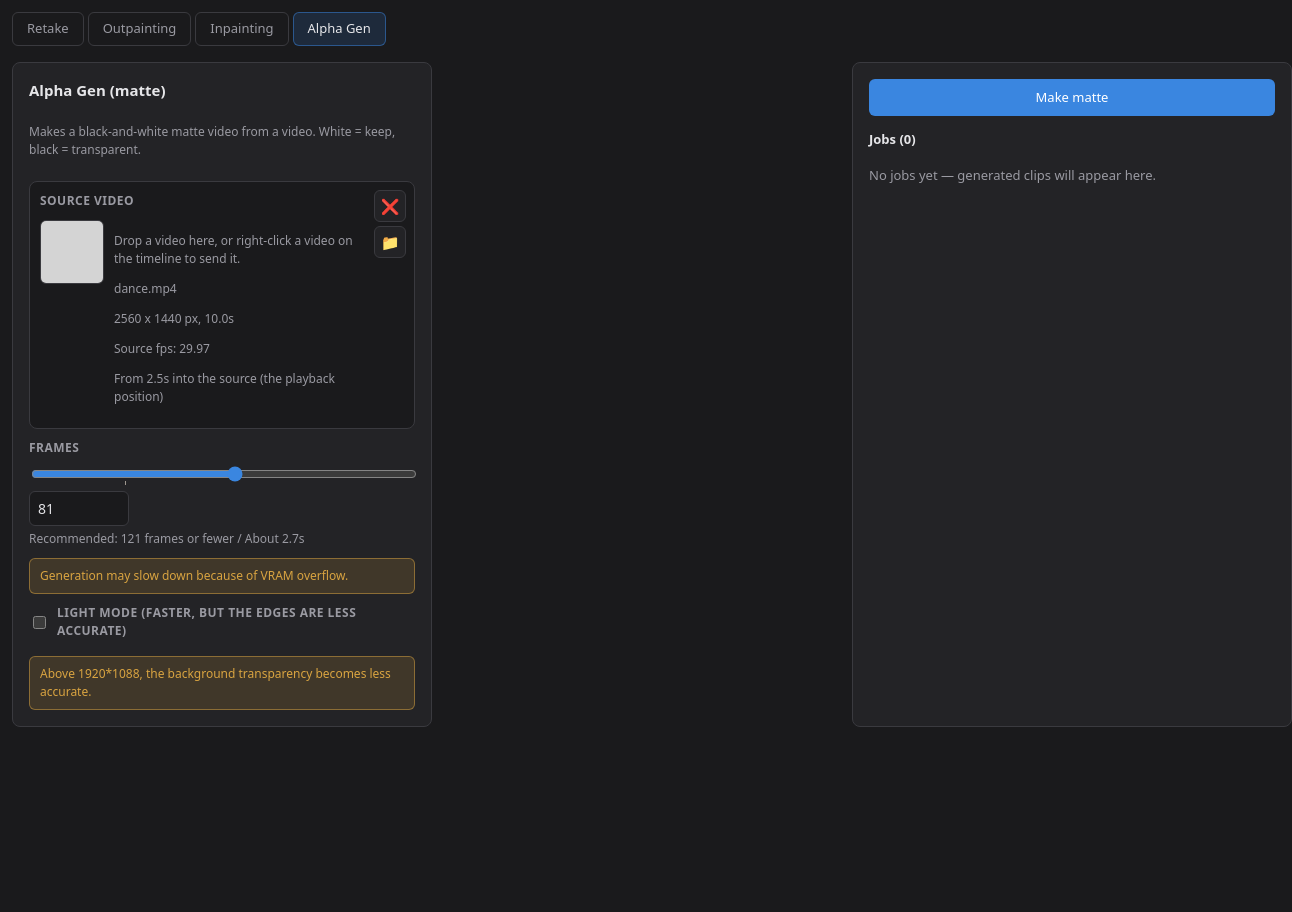
Test: EditScreen — Alpha Gen サブタブ › 軽量モード ON で線を超えると、縮小して元の寸法へ戻すという注意に変わる
The image size is (1292, 912).
Expected: the text "Generation may slow down because of VRAM overflow." is shown, [29,558,415,594]
Click the checkbox labelled "Light mode (faster, but the edges are less accurate)" at (40, 622), box [33,616,46,628]
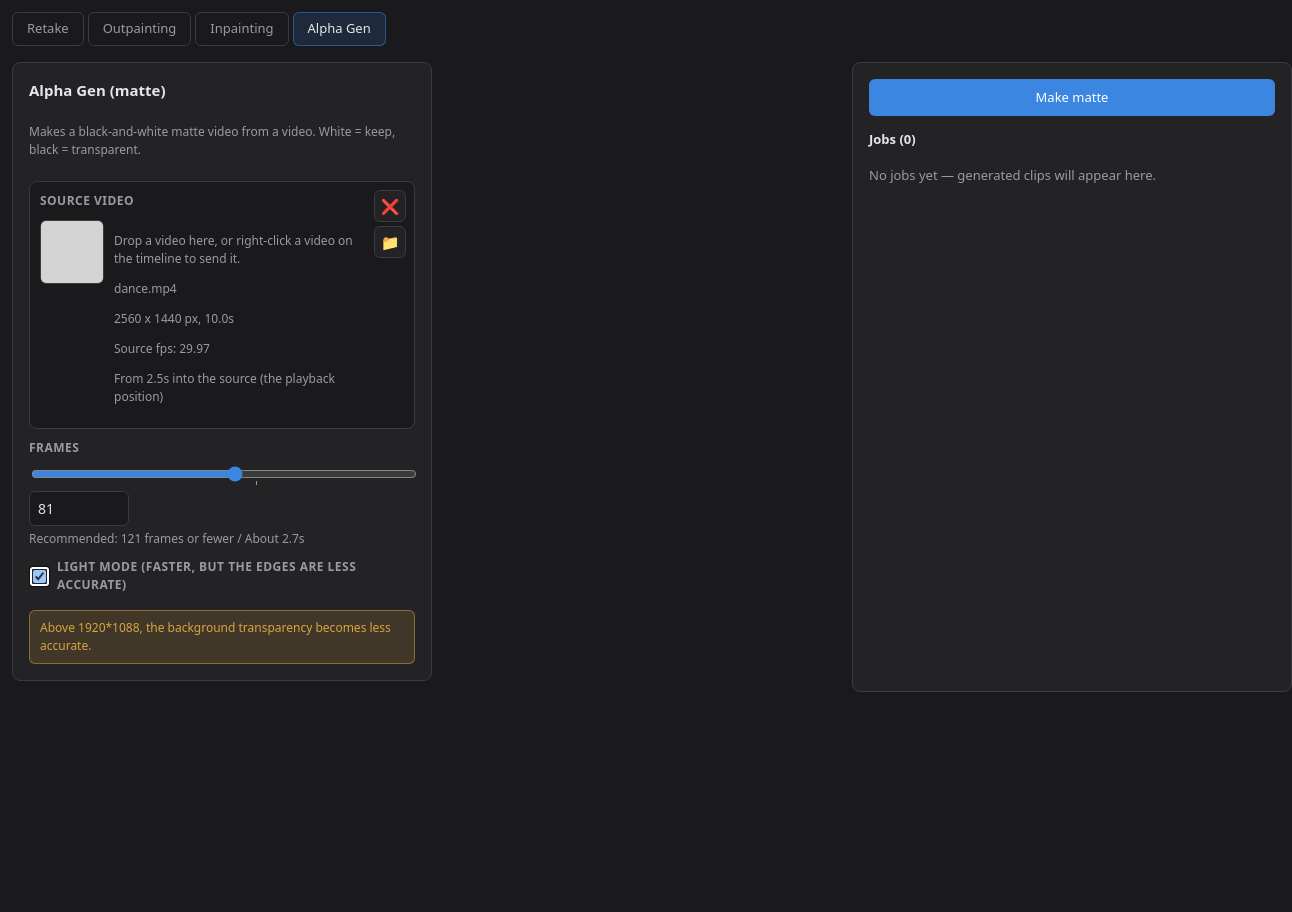
Expected: the text "In light mode this setting is made smaller and scaled back to the original size." is not shown
Result: the text "Generation may slow down because of VRAM overflow." is gone
Set the slider labelled "Frames Recommended: 121 frames or fewer / About 2.7s" to "97" at (278, 474), box [31,463,417,485]
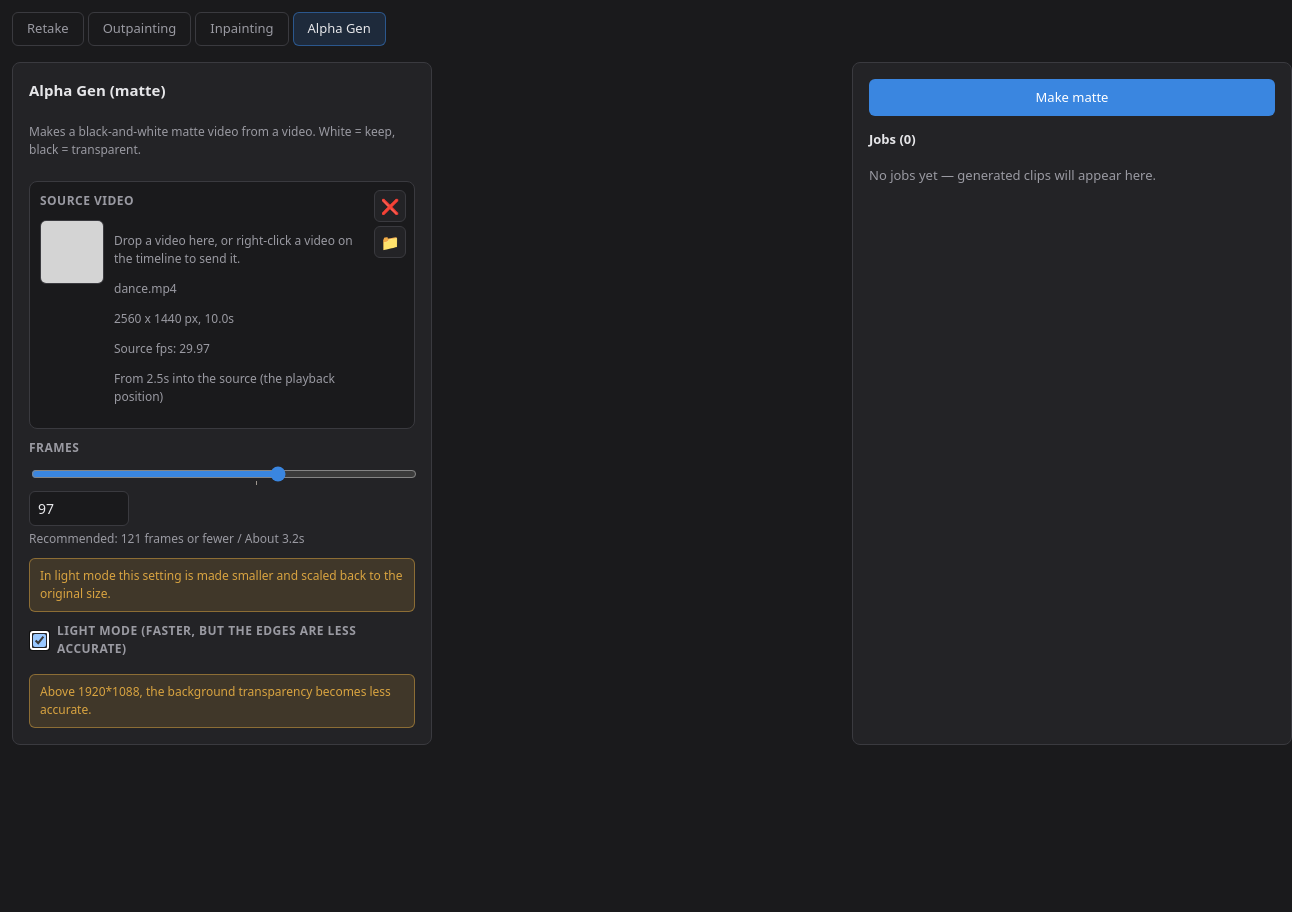
Expected: the text "Generation may slow down because of VRAM overflow." is not shown
Result: the text "In light mode this setting is made smaller and scaled back to the original size." is shown at [29,558,415,612]
